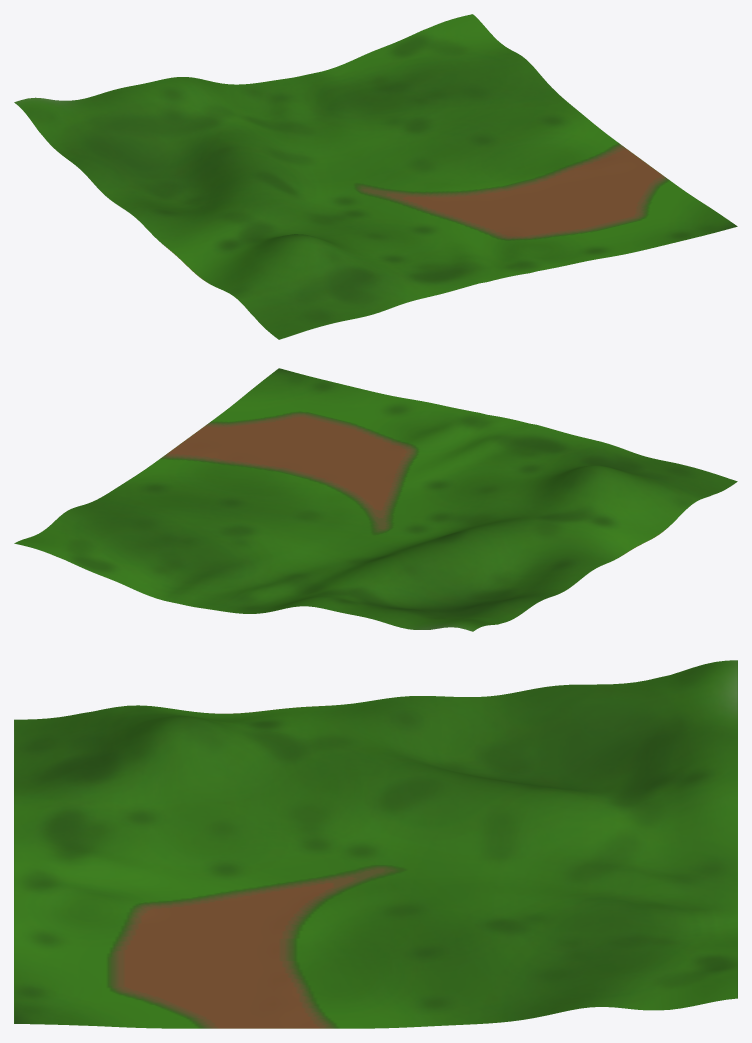
The model's file is demo_ground.dae.
3 renders of one model, top to bottom at view 1: azimuth 30°, elevation 25°; view 2: azimuth 150°, elevation 25°; view 3: azimuth 270°, elevation 25°, orthographic. The views are drawn at different scales.
Visible parts, largest first — view 1: ground; view 2: ground; view 3: ground.
Boxes of the visible parts, bbox=[...] form: ground: bbox=[14, 14, 737, 339]; ground: bbox=[14, 368, 737, 631]; ground: bbox=[14, 660, 737, 1028].
Bounding box in the file's own units: 64 × 64 × 6.18.
